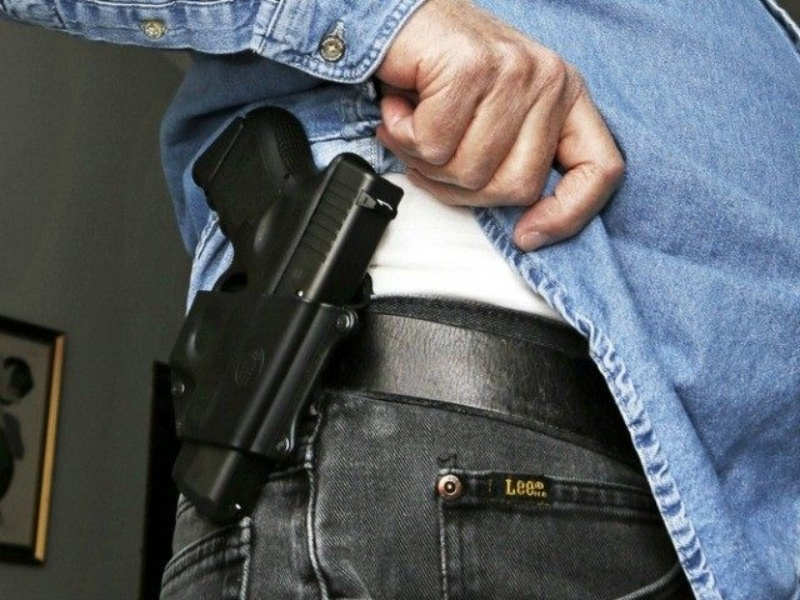gun: (184, 128, 380, 509)
